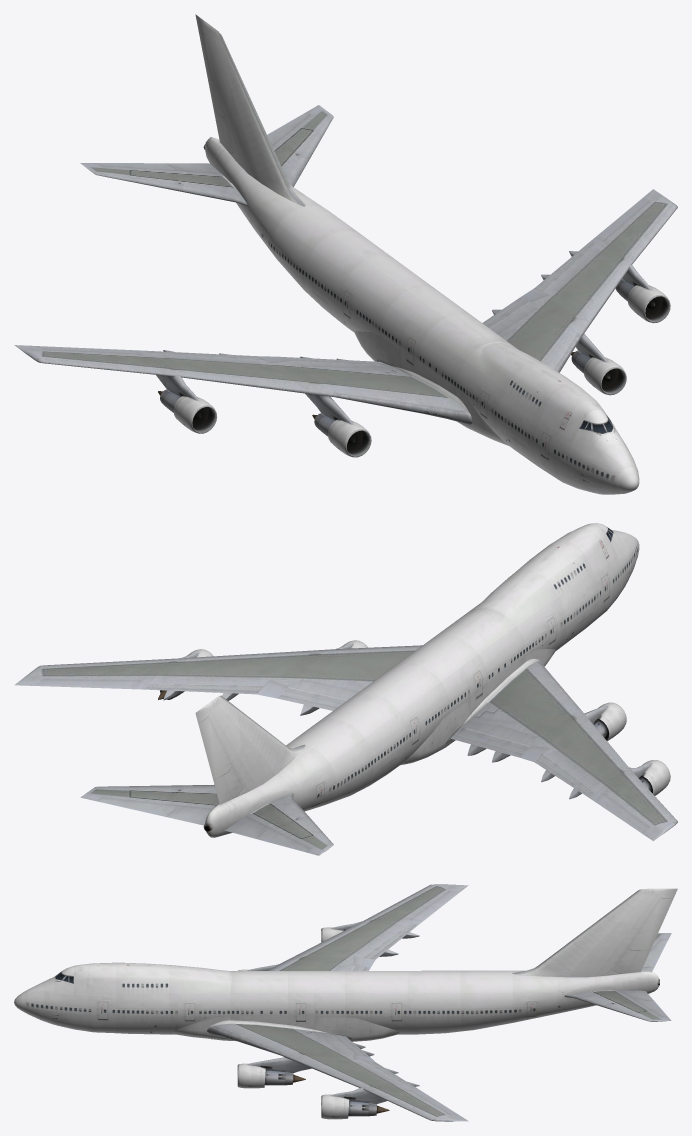
3 renders of one model, top to bottom at view 1: azimuth 30°, elevation 25°; view 2: azimuth 150°, elevation 25°; view 3: azimuth 270°, elevation 25°, orthographic. The views are drawn at different scales.
Parts seen in each view (by area): view 1: vehicle; view 2: vehicle; view 3: vehicle.
Boxes of the visible parts, x1,y1,x2,y2 form: vehicle: (14, 14, 677, 494); vehicle: (14, 523, 677, 855); vehicle: (14, 884, 677, 1121).
Bounding box in the file's own units: 59.42 × 17.8 × 70.7.
2 materials, 1 textured.
